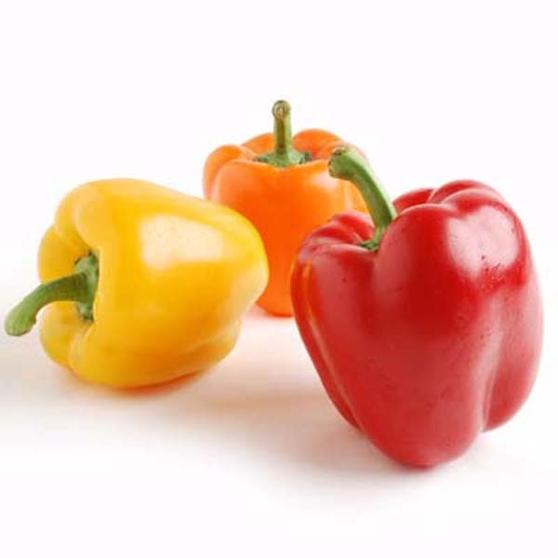pepper: (282, 151, 549, 476)
